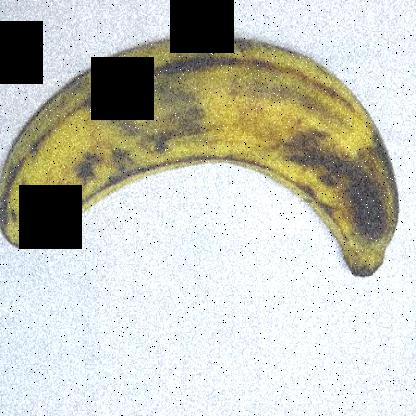overripe: (1, 17, 405, 300)
